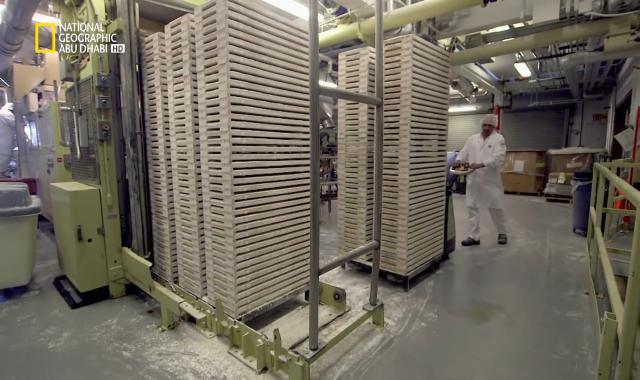hairnet: (479, 113, 498, 128)
